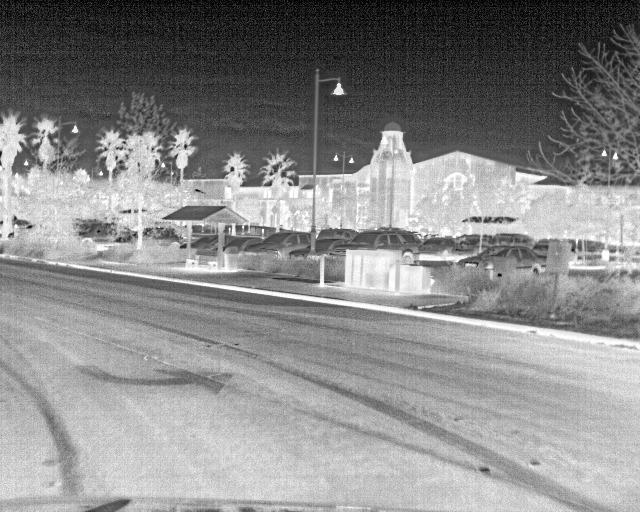car: (337, 232, 422, 264), (458, 246, 546, 274), (259, 228, 310, 252), (73, 221, 116, 247), (140, 225, 184, 249), (418, 233, 453, 259), (489, 230, 534, 250), (222, 235, 259, 253), (314, 237, 349, 254), (189, 233, 217, 253)
